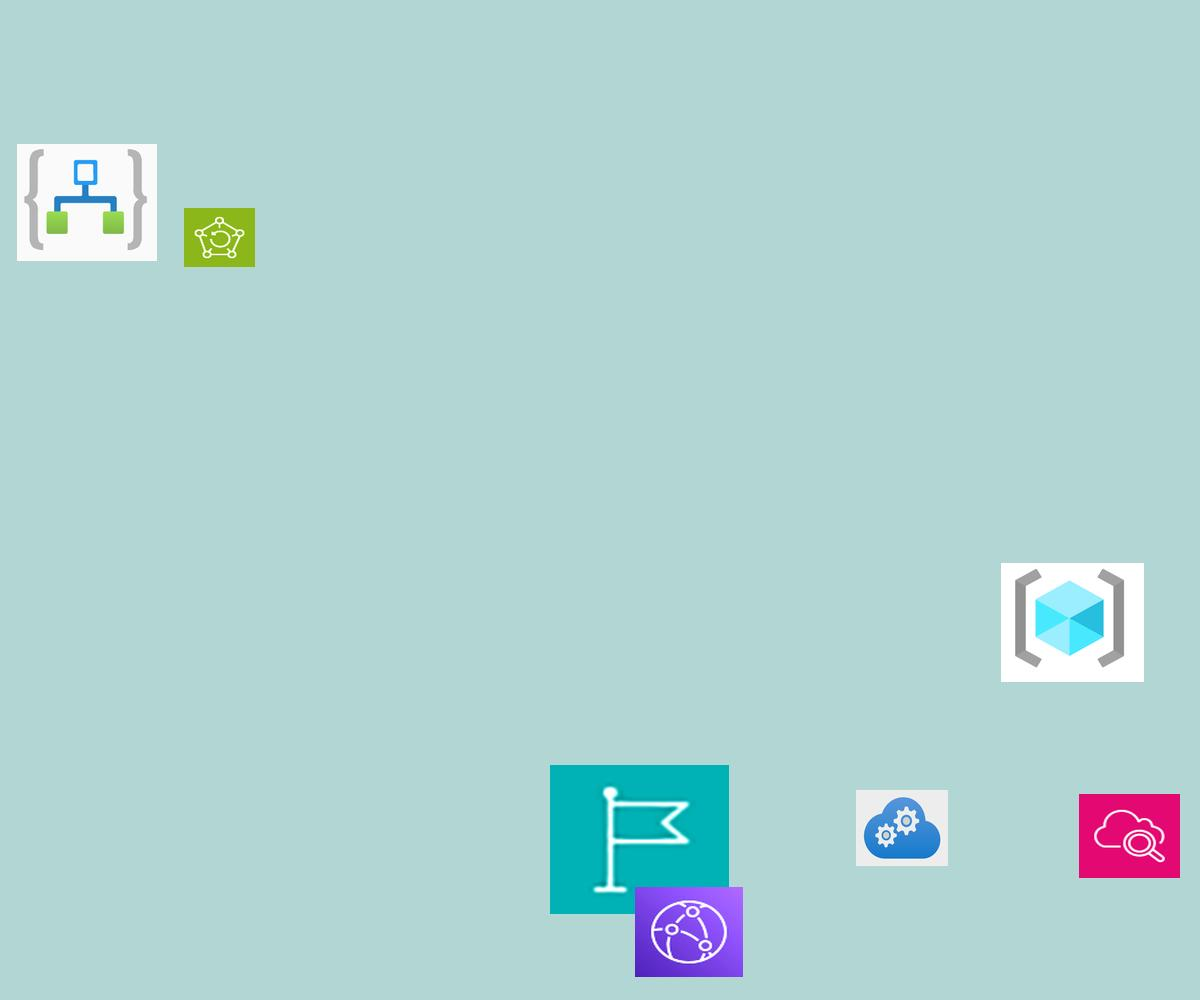AWS-Backup: (184, 208, 255, 267)
AWS-CloudFront: (635, 887, 743, 977)
AWS-CloudWatch: (1079, 794, 1180, 878)
AWS-Region: (550, 765, 729, 914)
Azure_cloud_services: (856, 790, 948, 866)
Azure_integration-204-Logic-Apps: (17, 144, 157, 261)
Azure_resource_group: (1001, 563, 1144, 682)
